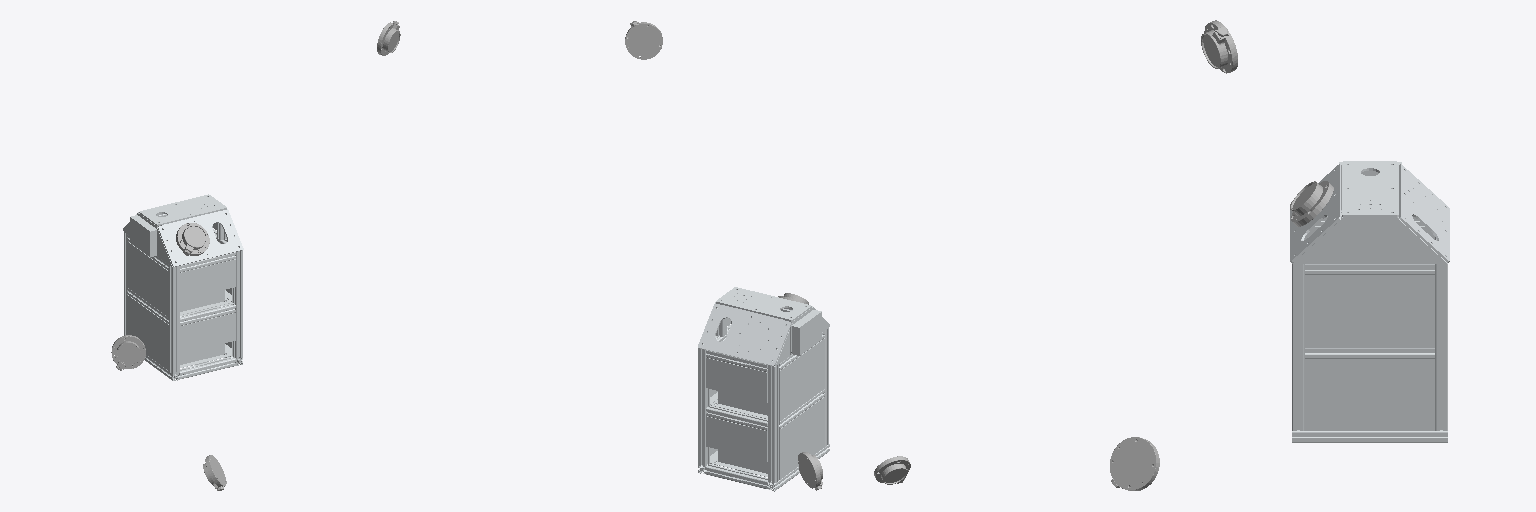
URDF robot description (mobile_dual_arm):
<?xml version="1.0" encoding="utf-8"?>
<!-- This URDF was automatically created by SolidWorks to URDF Exporter! Originally created by [author] ([email redacted]) 
     Commit Version: 1.5.1-0-g916b5db  Build Version: 1.5.7152.31018
     For more information, please see http://wiki.ros.org/sw_urdf_exporter -->
<robot
  name="mobile_dual_arm">
  <link
    name="body_base_link">
    <inertial>
      <origin
        xyz="-0.00727317613555882 0.000177642281680983 0.348737018525742"
        rpy="0 0 0" />
      <mass
        value="66.8179754832155" />
      <inertia
        ixx="0.864769333517005"
        ixy="8.0431227004378E-11"
        ixz="8.52015709303559E-10"
        iyy="0.693625288679801"
        iyz="1.14906238170287E-10"
        izz="0.958343996689488" />
    </inertial>
    <visual>
      <origin
        xyz="0 0 0"
        rpy="0 0 0" />
      <geometry>
        <mesh
          filename="package://mobile_dual_arm/meshes/body_base_link.STL" />
      </geometry>
      <material
        name="">
        <color
          rgba="0.898039215686275 0.917647058823529 0.929411764705882 1" />
      </material>
    </visual>
    <collision>
      <origin
        xyz="0 0 0"
        rpy="0 0 0" />
      <geometry>
        <mesh
          filename="package://mobile_dual_arm/meshes/body_base_link.STL" />
      </geometry>
    </collision>
  </link>
  <link
    name="body_right_arm_base_link">
    <inertial>
      <origin
        xyz="-0.00192948747996827 -0.00192948770491475 0.0189186812726294"
        rpy="0 0 0" />
      <mass
        value="0.768758825270423" />
      <inertia
        ixx="0.00130863323196589"
        ixy="-8.27052912865168E-05"
        ixz="1.46718746017021E-05"
        iyy="0.00130863321459499"
        iyz="1.46718698382696E-05"
        izz="0.00238071882875451" />
    </inertial>
    <visual>
      <origin
        xyz="0 0 0"
        rpy="0 0 0" />
      <geometry>
        <mesh
          filename="package://mobile_dual_arm/meshes/body_right_arm_base_link.STL" />
      </geometry>
      <material
        name="">
        <color
          rgba="0.752941176470588 0.752941176470588 0.752941176470588 1" />
      </material>
    </visual>
    <collision>
      <origin
        xyz="0 0 0"
        rpy="0 0 0" />
      <geometry>
        <mesh
          filename="package://mobile_dual_arm/meshes/body_right_arm_base_link.STL" />
      </geometry>
    </collision>
  </link>
  <joint
    name="body_right_arm_base_joint"
    type="fixed">
    <origin
      xyz="-0.05 -0.17283 0.70344"
      rpy="0.7854 0 0" />
    <parent
      link="body_base_link" />
    <child
      link="body_right_arm_base_link" />
    <axis
      xyz="0 0 0" />
    <limit
      lower="-1.57"
      upper="1.57"
      effort="0"
      velocity="0" />
  </joint>
  <link
    name="right_arm_base_link">
    <inertial>
      <origin
        xyz="-0.00204575610562867 -0.00204575633387238 0.01891868127263"
        rpy="0 0 0" />
      <mass
        value="0.768758825270423" />
      <inertia
        ixx="0.00130863323196589"
        ixy="-8.27052912865176E-05"
        ixz="1.46718746016366E-05"
        iyy="0.00130863321459499"
        iyz="1.4671869838265E-05"
        izz="0.00238071882875451" />
    </inertial>
    <visual>
      <origin
        xyz="0 0 0"
        rpy="0 0 0" />
      <geometry>
        <mesh
          filename="package://mobile_dual_arm/meshes/right_arm_base_link.STL" />
      </geometry>
      <material
        name="">
        <color
          rgba="0.752941176470588 0.752941176470588 0.752941176470588 1" />
      </material>
    </visual>
    <collision>
      <origin
        xyz="0 0 0"
        rpy="0 0 0" />
      <geometry>
        <mesh
          filename="package://mobile_dual_arm/meshes/right_arm_base_link.STL" />
      </geometry>
    </collision>
  </link>
  <joint
    name="right_arm_base_joint"
    type="fixed">
    <origin
      xyz="0.00011627 0.00011627 0"
      rpy="0 0 0" />
    <parent
      link="body_right_arm_base_link" />
    <child
      link="right_arm_base_link" />
    <axis
      xyz="0 0 0" />
    <limit
      lower="-1.57"
      upper="1.57"
      effort="0"
      velocity="0" />
  </joint>
  <link
    name="body_left_arm_base_link">
    <inertial>
      <origin
        xyz="-0.00204575679990741 0.00204575705279464 0.0184186812945987"
        rpy="0 0 0" />
      <mass
        value="0.768758838256404" />
      <inertia
        ixx="0.00130863326197873"
        ixy="8.27053110969948E-05"
        ixz="1.46718724245694E-05"
        iyy="0.00130863323736991"
        iyz="-1.46718754047012E-05"
        izz="0.00238071888301593" />
    </inertial>
    <visual>
      <origin
        xyz="0 0 0"
        rpy="0 0 0" />
      <geometry>
        <mesh
          filename="package://mobile_dual_arm/meshes/body_left_arm_base_link.STL" />
      </geometry>
      <material
        name="">
        <color
          rgba="0.752941176470588 0.752941176470588 0.752941176470588 1" />
      </material>
    </visual>
    <collision>
      <origin
        xyz="0 0 0"
        rpy="0 0 0" />
      <geometry>
        <mesh
          filename="package://mobile_dual_arm/meshes/body_left_arm_base_link.STL" />
      </geometry>
    </collision>
  </link>
  <joint
    name="body_left_arm_base_joint"
    type="fixed">
    <origin
      xyz="-0.049884 0.1744 0.70352"
      rpy="-0.7854 0 0" />
    <parent
      link="body_base_link" />
    <child
      link="body_left_arm_base_link" />
    <axis
      xyz="0 0 0" />
    <limit
      lower="-1.57"
      upper="1.57"
      effort="0"
      velocity="0" />
  </joint>
  <link
    name="left_arm_base_link">
    <inertial>
      <origin
        xyz="-0.0020457567999075 0.00204575705279442 0.0189186812946062"
        rpy="0 0 0" />
      <mass
        value="0.768758838256403" />
      <inertia
        ixx="0.00130863326197872"
        ixy="8.27053110969936E-05"
        ixz="1.46718724245695E-05"
        iyy="0.00130863323736991"
        iyz="-1.46718754047015E-05"
        izz="0.00238071888301593" />
    </inertial>
    <visual>
      <origin
        xyz="0 0 0"
        rpy="0 0 0" />
      <geometry>
        <mesh
          filename="package://mobile_dual_arm/meshes/left_arm_base_link.STL" />
      </geometry>
      <material
        name="">
        <color
          rgba="0.752941176470588 0.752941176470588 0.752941176470588 1" />
      </material>
    </visual>
    <collision>
      <origin
        xyz="0 0 0"
        rpy="0 0 0" />
      <geometry>
        <mesh
          filename="package://mobile_dual_arm/meshes/left_arm_base_link.STL" />
      </geometry>
    </collision>
  </link>
  <joint
    name="left_arm_base_joint"
    type="fixed">
    <origin
      xyz="0 0 -0.0005"
      rpy="0 0 0" />
    <parent
      link="body_left_arm_base_link" />
    <child
      link="left_arm_base_link" />
    <axis
      xyz="0 0 0" />
    <limit
      lower="-1.57"
      upper="1.57"
      effort="0"
      velocity="0" />
  </joint>
</robot>

--- What the picture shows (computed from the rendered views, not written in the file) ---
3 views of the same robot in one strip: view 1: azimuth 30°, elevation 25°; view 2: azimuth 150°, elevation 25°; view 3: azimuth 270°, elevation 25° (orthographic).
Robot: mobile_dual_arm — 5 links, 4 joints (4 fixed); root link body_base_link; default pose: all joints at 0.
Visible links, largest first — view 1: body_base_link, body_right_arm_base_link, right_arm_base_link, body_left_arm_base_link, left_arm_base_link; view 2: body_base_link, body_left_arm_base_link, left_arm_base_link, body_right_arm_base_link; view 3: body_base_link, left_arm_base_link, body_left_arm_base_link, right_arm_base_link.
Boxes of the visible links, bbox=[...] form: body_base_link: bbox=[123, 194, 243, 380]; body_right_arm_base_link: bbox=[111, 335, 145, 370]; right_arm_base_link: bbox=[176, 223, 209, 255]; body_left_arm_base_link: bbox=[377, 21, 400, 55]; left_arm_base_link: bbox=[203, 455, 226, 490]; body_base_link: bbox=[698, 287, 829, 491]; body_left_arm_base_link: bbox=[625, 21, 662, 59]; left_arm_base_link: bbox=[874, 456, 910, 484]; body_right_arm_base_link: bbox=[798, 452, 822, 490]; body_base_link: bbox=[1290, 161, 1449, 442]; left_arm_base_link: bbox=[1110, 437, 1159, 490]; body_left_arm_base_link: bbox=[1201, 20, 1237, 73]; right_arm_base_link: bbox=[1290, 181, 1333, 226].
Bounding box of the posed robot: 1.32 × 1.07 × 2.15 m (x, y, z).
5 mesh visuals loaded from 5 distinct referenced files (5 binary STL).